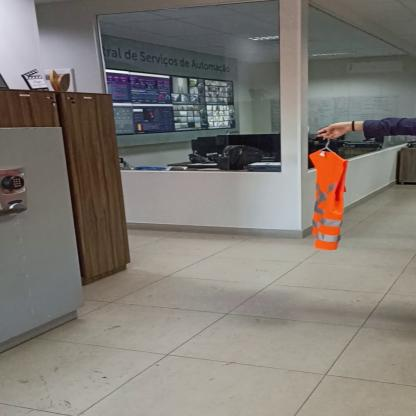colete: (296, 148, 353, 252)
